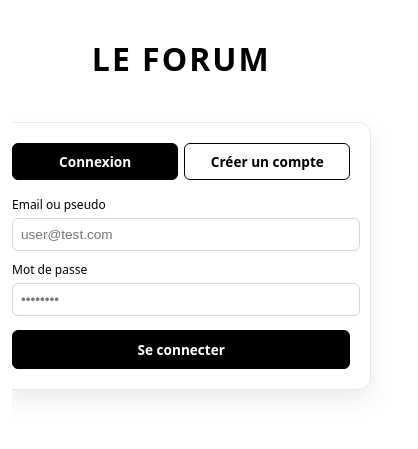
Test: AuthPage - tests front sans backend › signup réussi -> repasse en mode login, préremplit l'email et affiche le message de succès
Step 1. Click the button "Créer un compte" → (267, 162), box [184,143,350,180]
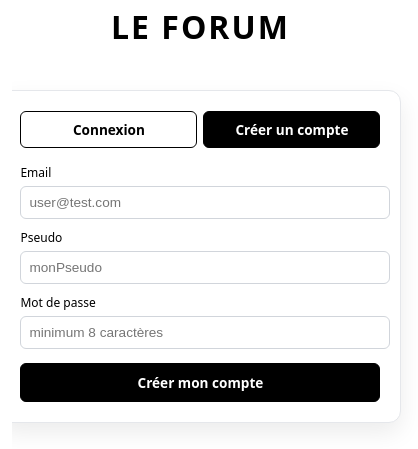
Step 2. Type "cool@user.com" into the field labelled "Email" → (205, 202), box [20,186,390,218]
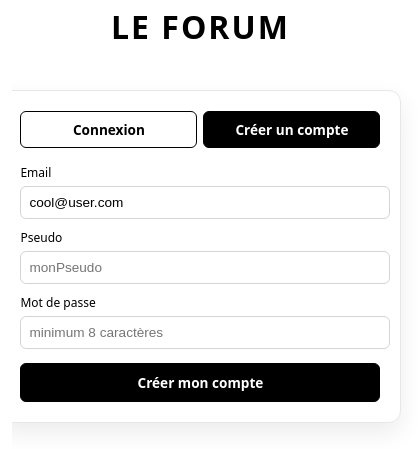
Step 3. Type "cooluser" into the field labelled "Pseudo" → (205, 267), box [20,250,390,284]
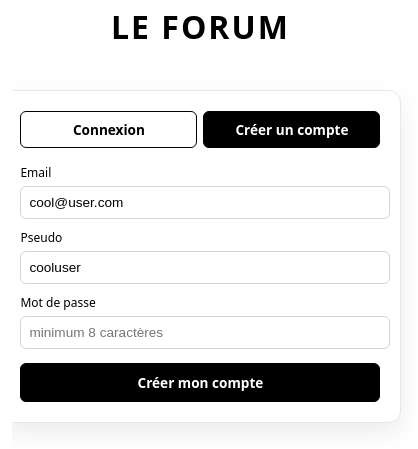
Step 4. Type "StrongPass123!" into the password field labelled "Mot de passe" → (205, 332), box [20,316,390,348]
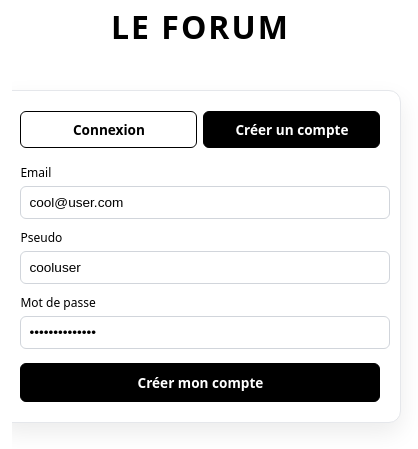
Step 5. Submit the form, box [20,164,380,402]
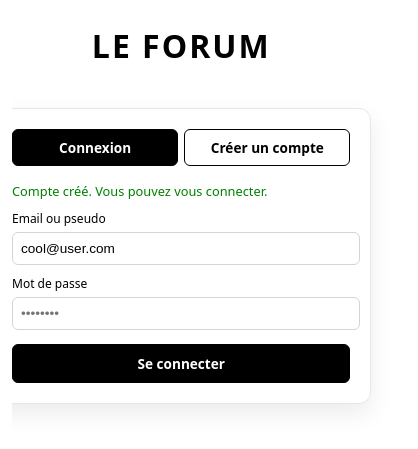
Now the text "Compte créé. Vous pouvez vous connecter." is shown, box [12,182,267,200]
